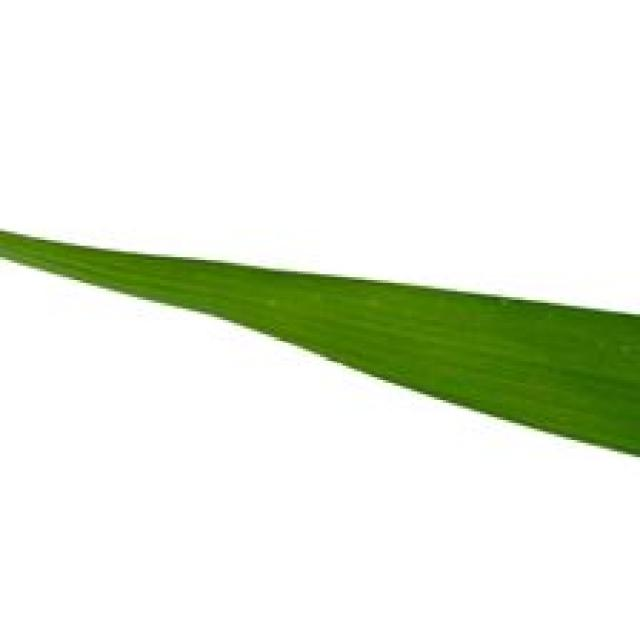Rice___Healthy_Rice_Plant: (0, 229, 637, 462)
